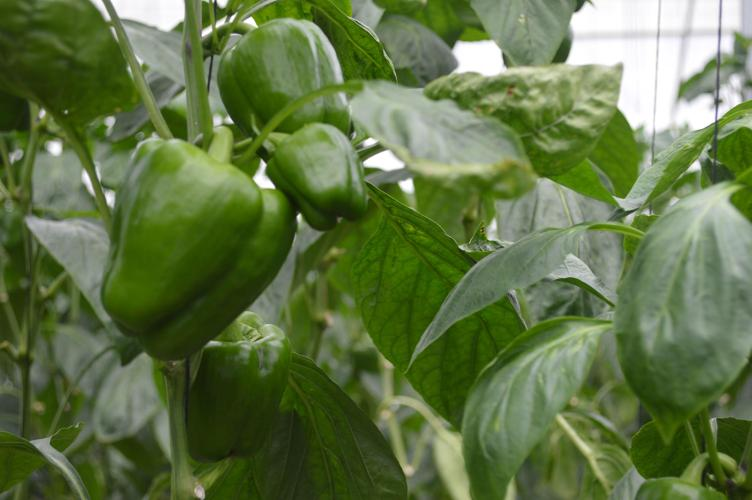BellPepper: (85, 126, 296, 362), (219, 26, 357, 137), (261, 132, 384, 246)
